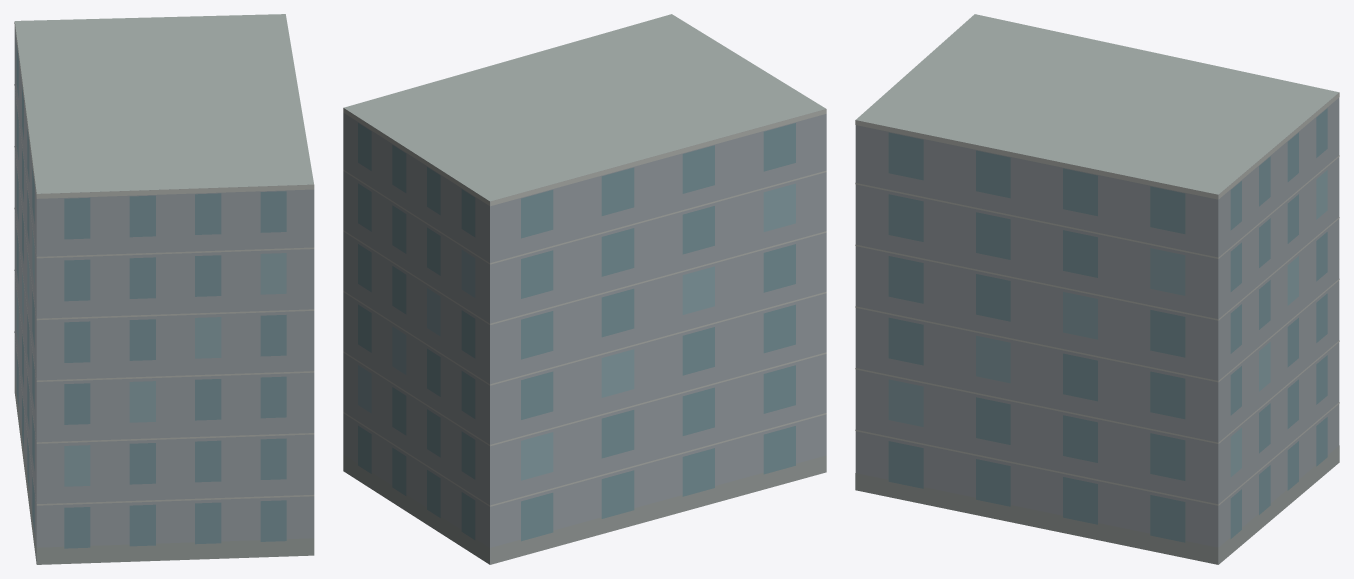
File: survey-upis-32847075.glb
3 views of the same model, side by side, from view 1: azimuth 30°, elevation 25°; view 2: azimuth 150°, elevation 25°; view 3: azimuth 270°, elevation 25° (orthographic). The views are drawn at different scales.
Visible parts, largest first — view 1: survey-upis-32847075.tmp; view 2: survey-upis-32847075.tmp; view 3: survey-upis-32847075.tmp.
Boxes of the visible parts, bbox=[...] form: survey-upis-32847075.tmp: bbox=[14, 14, 314, 564]; survey-upis-32847075.tmp: bbox=[343, 14, 826, 564]; survey-upis-32847075.tmp: bbox=[855, 14, 1339, 564].
Bounding box in the file's own units: 19.18 × 18.3 × 21.71.
